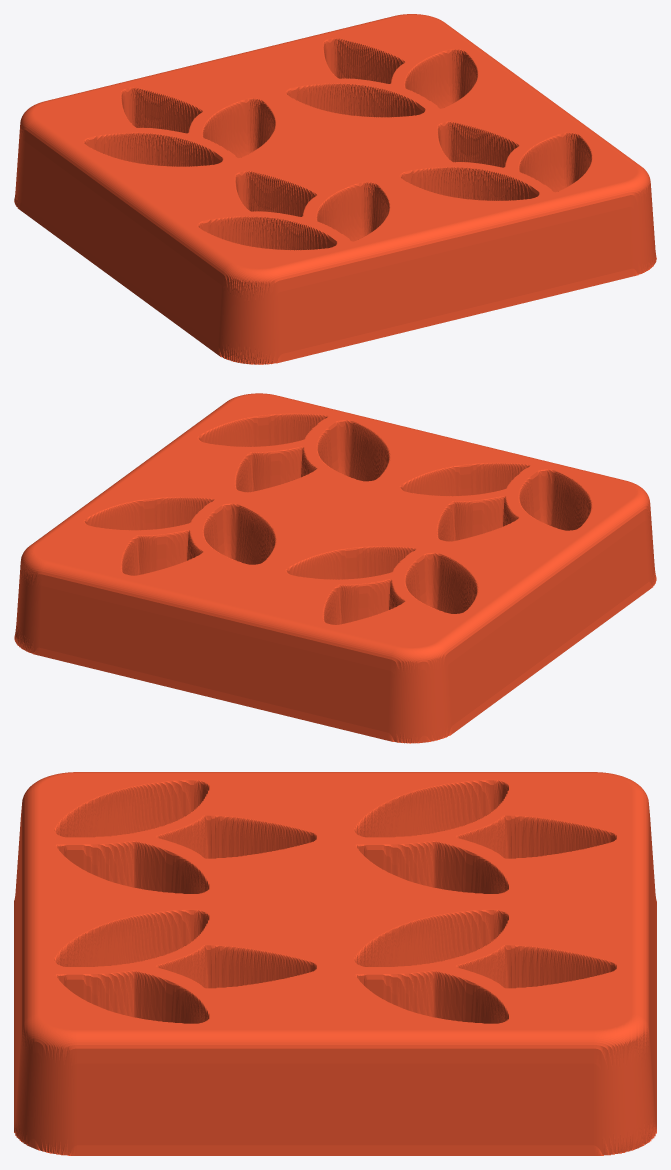
File: mold.glb
3 renders of one model, top to bottom at view 1: azimuth 30°, elevation 25°; view 2: azimuth 150°, elevation 25°; view 3: azimuth 270°, elevation 25°, orthographic. The views are drawn at different scales.
Visible parts, largest first — view 1: geometry_0; view 2: geometry_0; view 3: geometry_0.
Boxes of the visible parts, <box> form: geometry_0: <box>14,14,656,364</box>; geometry_0: <box>14,393,656,743</box>; geometry_0: <box>14,772,656,1155</box>.
Bounding box in the file's own units: 0.0942 × 0.0182 × 0.0922.
